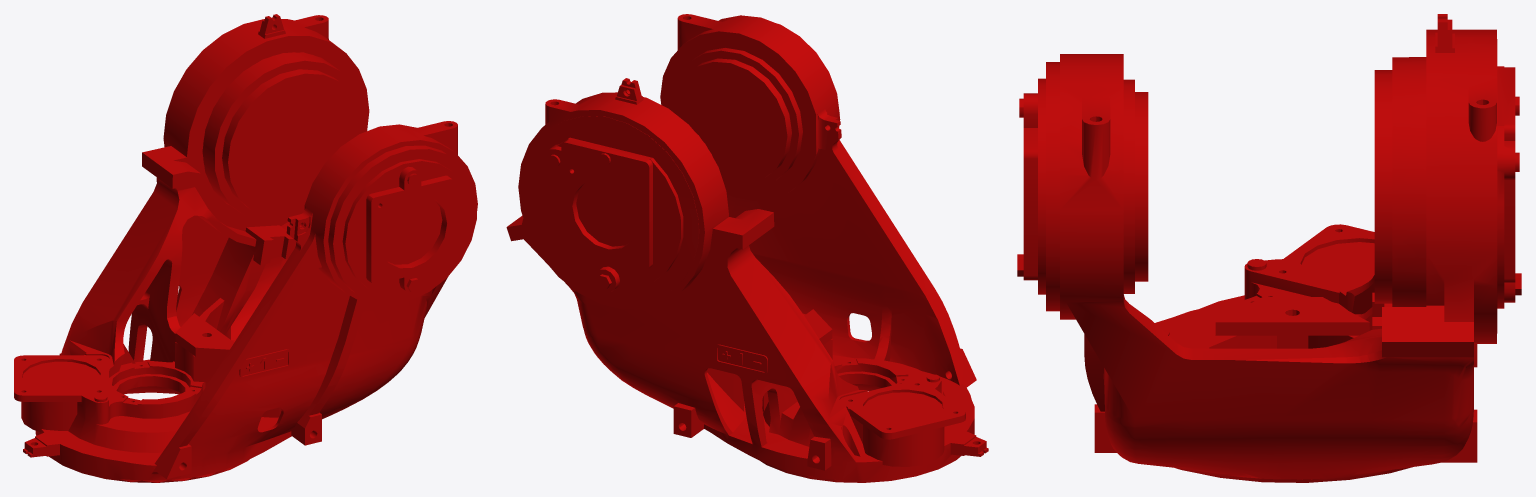
The picture shows the model from 3 angles, left to right: view 1: azimuth 30°, elevation 25°; view 2: azimuth 150°, elevation 25°; view 3: azimuth 270°, elevation 25°; orthographic projection. The views are drawn at different scales.
Parts seen in each view (by area): view 1: link_1; view 2: link_1; view 3: link_1.
Boxes of the visible parts, x1,y1,x2,y2 form: link_1: [14, 14, 477, 482]; link_1: [506, 14, 988, 482]; link_1: [1017, 14, 1521, 482].
Size of the model in its own units: 0.9475 by 0.755 by 0.6805.
